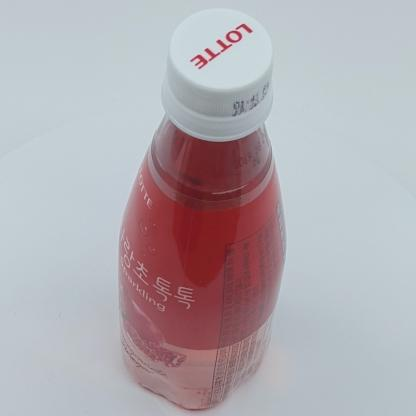-----------330ML: (118, 8, 287, 409)
